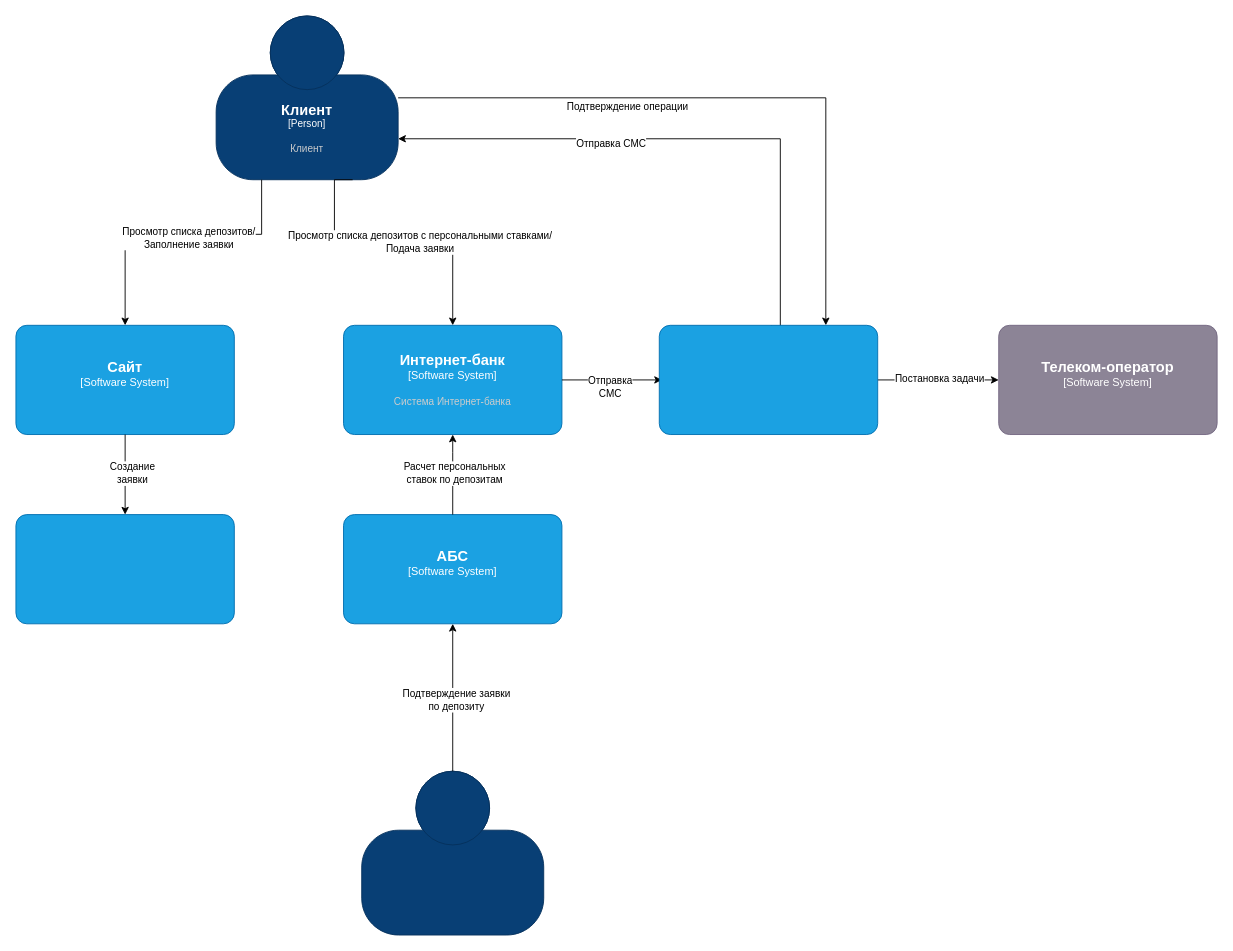
This 1233x951 diagram has some shape labels left out. Here are the shapes that lost their labels. From the top down, the centre of each, then its label:
At (768,379): "СМС-шлюз [Software System]".
At (124,569): "Система кол-центра [Software System]".
At (452,852): "Сотрудник бэк-офиса [Person] Сотрудник бэк-офиса".
